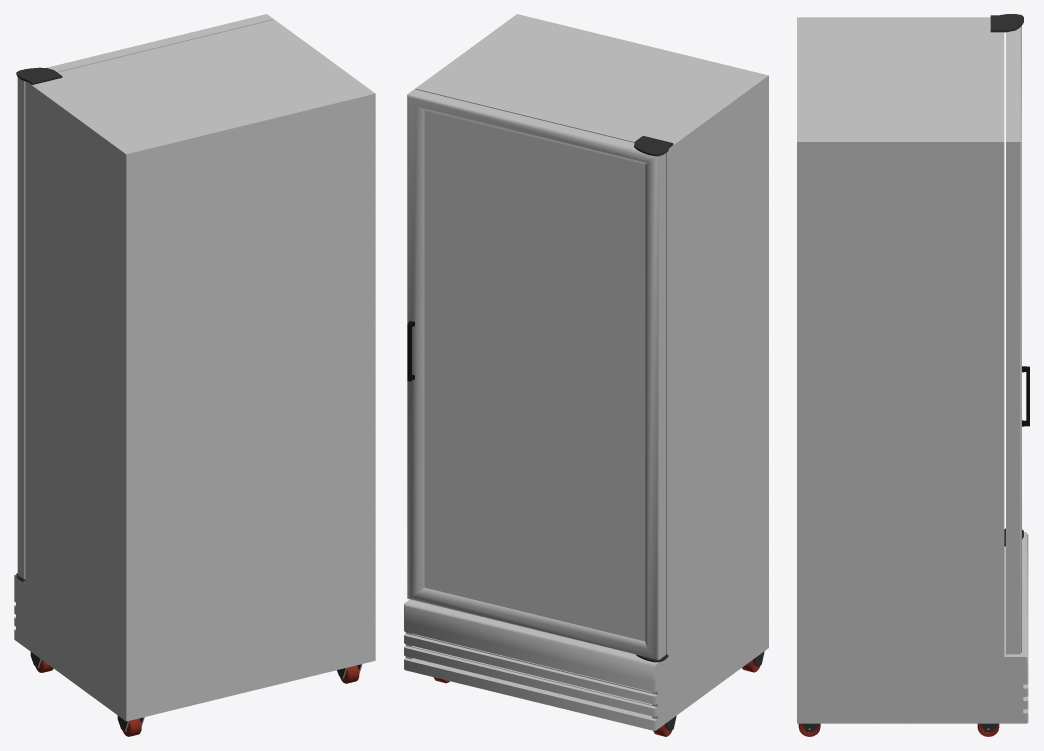
File: drinkrefridge.fbx
3 views of the same model, side by side, from view 1: azimuth 30°, elevation 25°; view 2: azimuth 150°, elevation 25°; view 3: azimuth 270°, elevation 25° (orthographic). The views are drawn at different scales.
Parts seen in each view (by area): view 1: drinkrefrigerator, refrigeratordoor; view 2: refrigeratordoorglass, drinkrefrigerator, refrigeratordoor; view 3: drinkrefrigerator, refrigeratordoor.
Boxes of the visible parts, box(x1,y1,x2,y2) form: drinkrefrigerator: box(14, 19, 375, 736); refrigeratordoor: box(17, 14, 273, 579); refrigeratordoorglass: box(424, 111, 644, 641); drinkrefrigerator: box(404, 14, 768, 736); refrigeratordoor: box(407, 89, 665, 659); drinkrefrigerator: box(797, 14, 1028, 736); refrigeratordoor: box(1006, 26, 1029, 654).
Bounding box in the file's own units: 89.04 × 199 × 69.5.
Materials: 2 (1 with a texture image).
